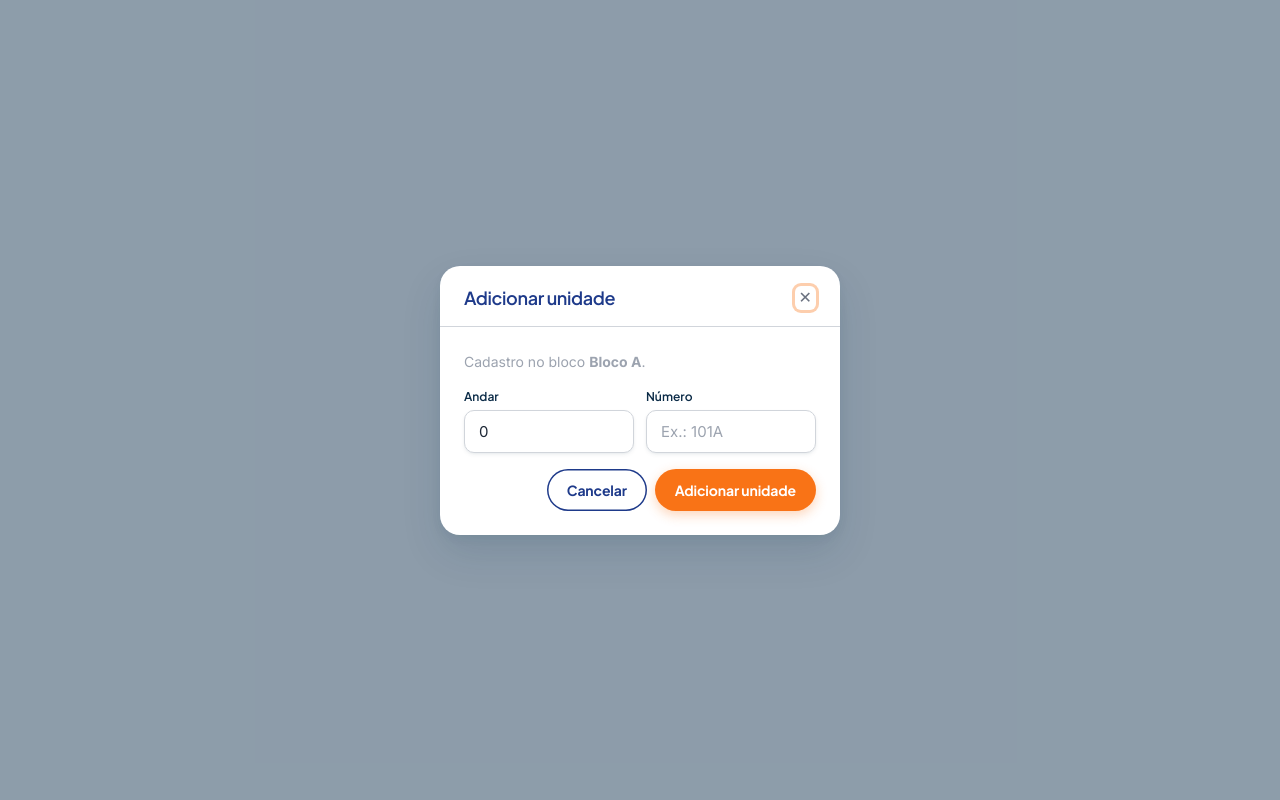
it: UnidadeForm › validates andar lower than zero inline
The image size is (1280, 800).
Replace the text in the number field labelled "Andar" with "-1" at (549, 431), box [464,410,634,452]
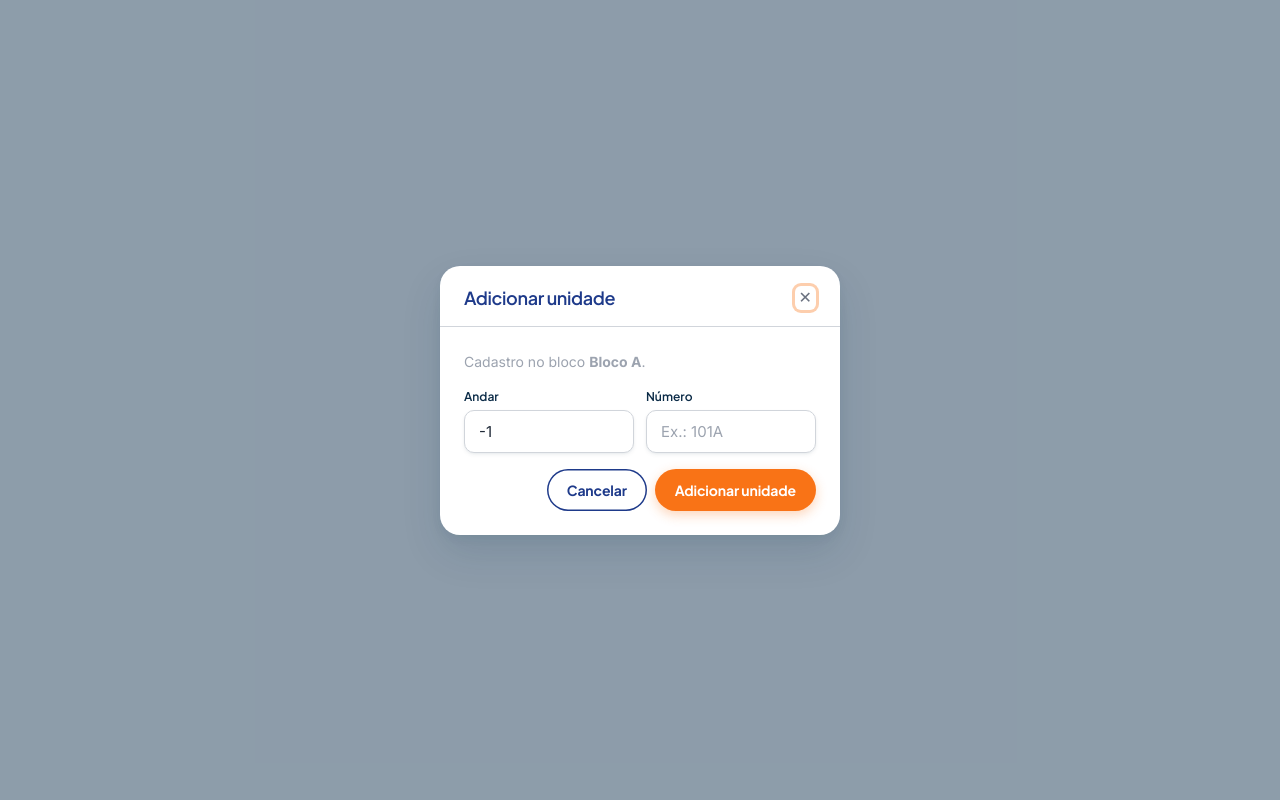
Type "101" into the field labelled "Número" at (731, 431), box [646,410,816,452]
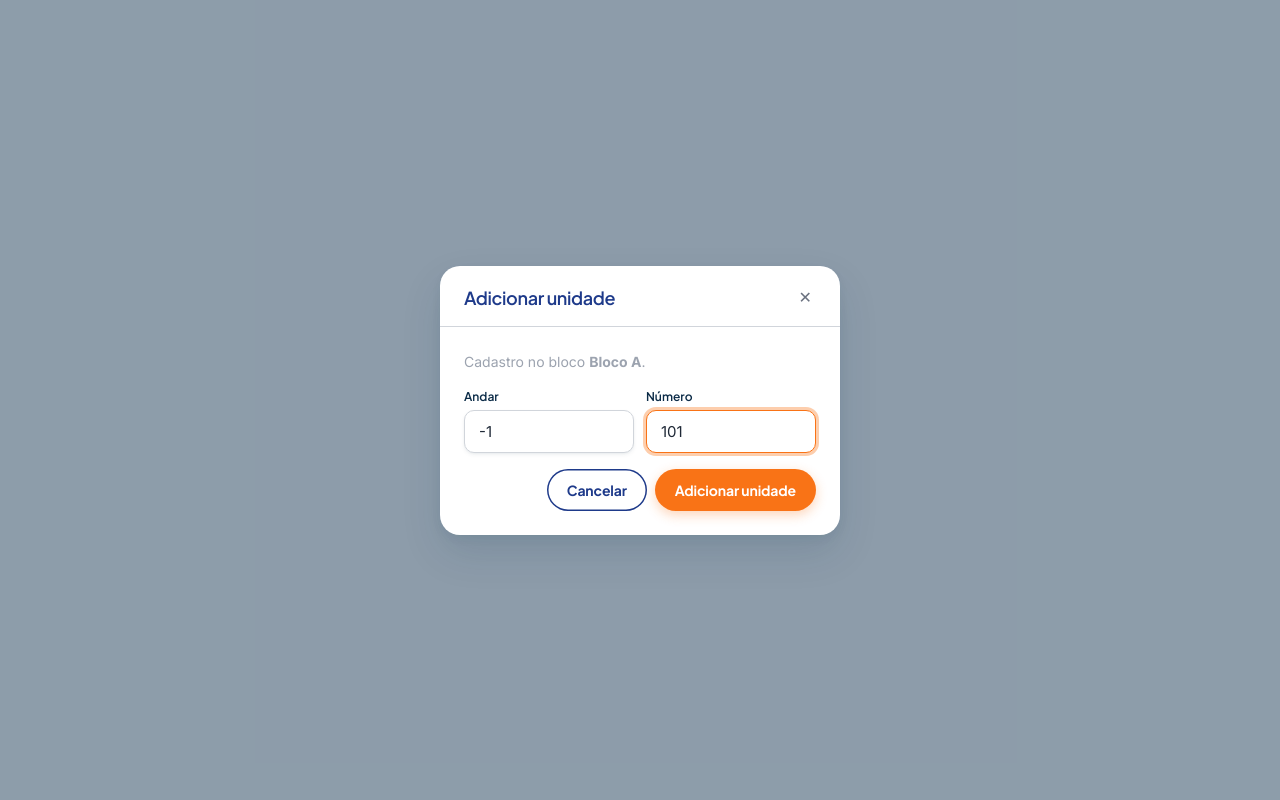
Click the button "Adicionar unidade" at (735, 490), box [655,468,816,510]
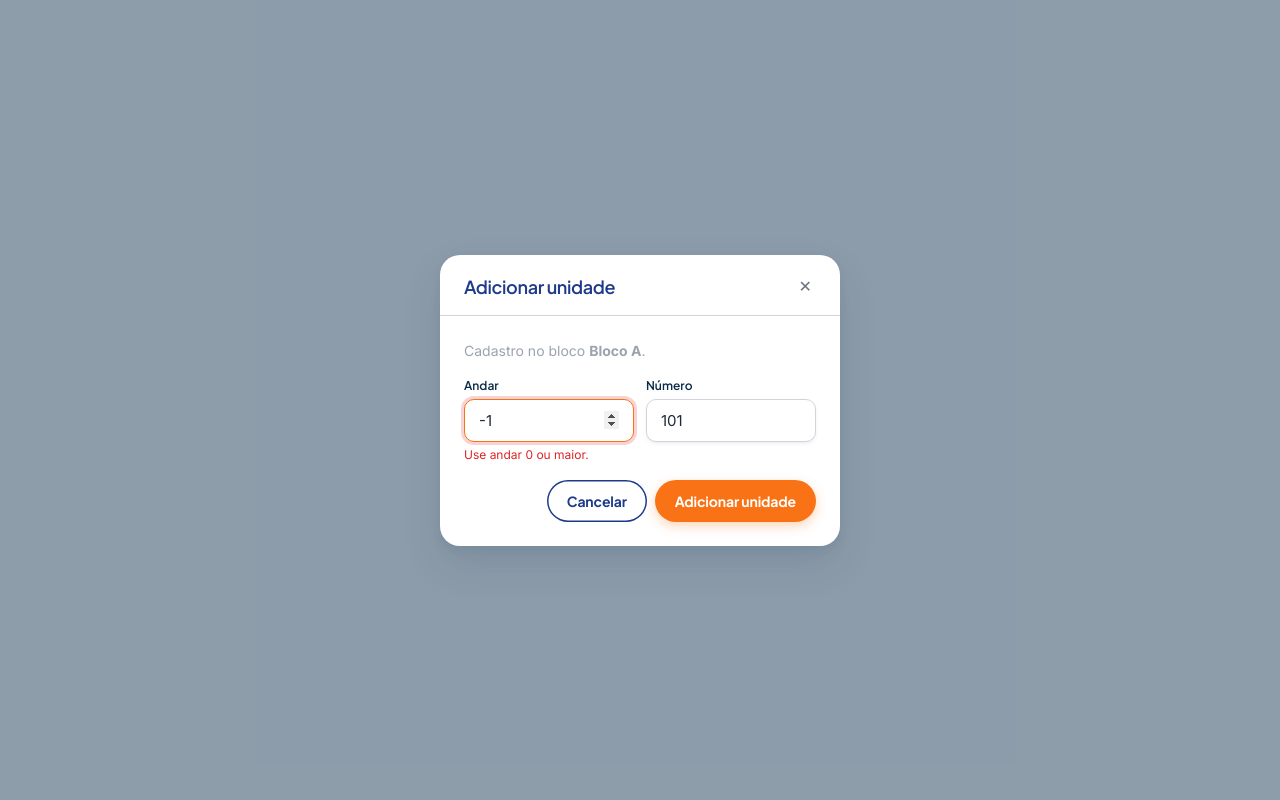
Check: the message shows "andar", box [464,446,589,462]
